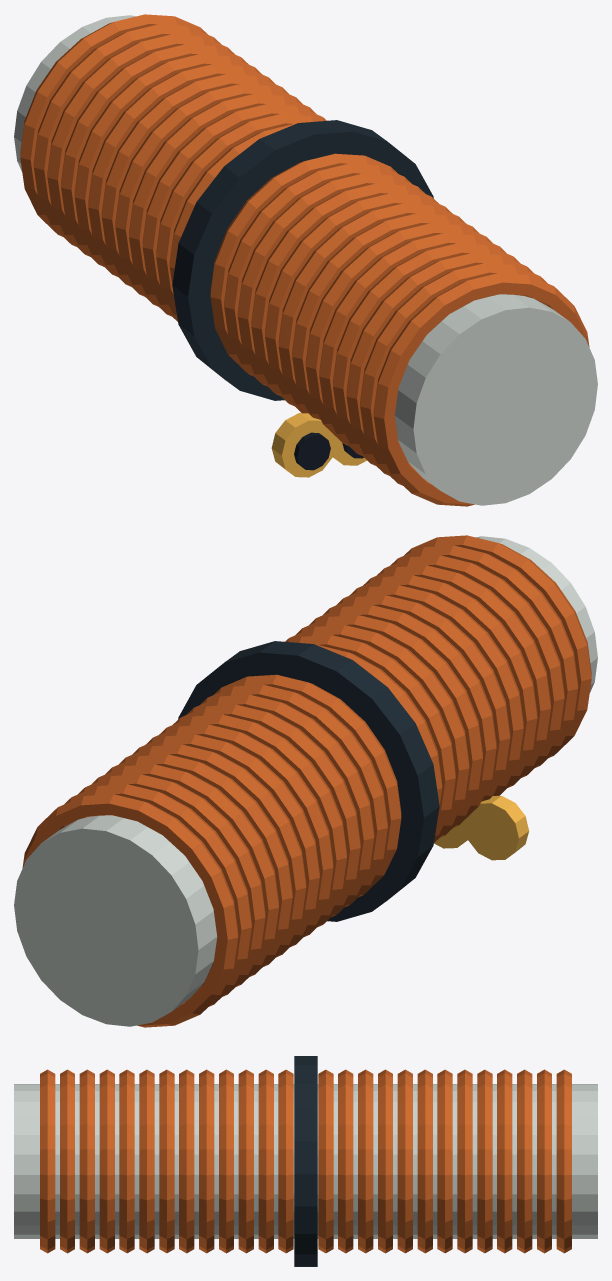
The model's file is 28_L84_MagneticTorqueRodZ.fbx.
3 renders of one model, top to bottom at view 1: azimuth 30°, elevation 25°; view 2: azimuth 150°, elevation 25°; view 3: azimuth 270°, elevation 25°, orthographic. The views are drawn at different scales.
Parts seen in each view (by area): view 1: L84_MagneticTorqueRodZ, L84_MagneticTorqueRodZ_Part_0005, L84_MagneticTorqueRodZ_Part_0006; view 2: L84_MagneticTorqueRodZ, L84_MagneticTorqueRodZ_Part_0005; view 3: L84_MagneticTorqueRodZ.
Boxes of the visible parts, bbox=[...] form: L84_MagneticTorqueRodZ: bbox=[14, 14, 597, 506]; L84_MagneticTorqueRodZ_Part_0005: bbox=[271, 413, 335, 477]; L84_MagneticTorqueRodZ_Part_0006: bbox=[294, 432, 330, 470]; L84_MagneticTorqueRodZ: bbox=[14, 535, 597, 1027]; L84_MagneticTorqueRodZ_Part_0005: bbox=[464, 796, 528, 860]; L84_MagneticTorqueRodZ: bbox=[14, 1056, 597, 1266].
Size of the model in its own units: 60 by 60 by 165.
